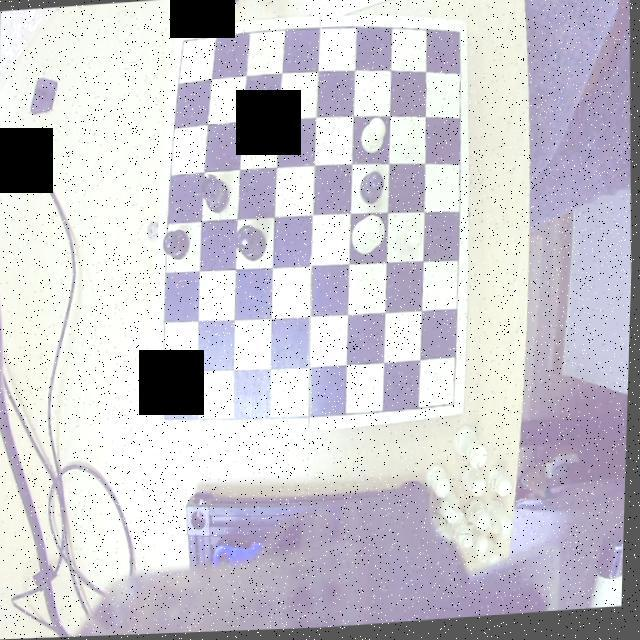chess-table-corners: (158, 403, 182, 430), (441, 394, 464, 420), (450, 23, 468, 52), (178, 30, 198, 54)
